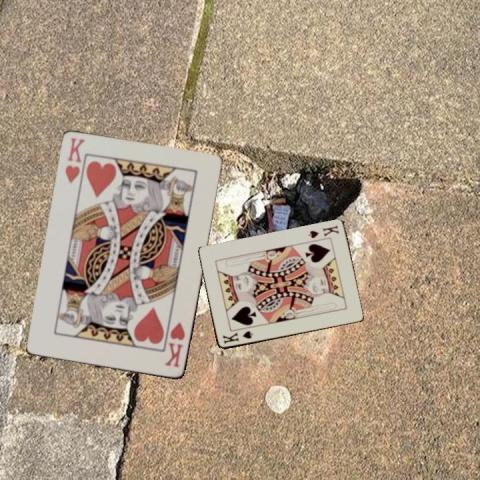Kh: (162, 319, 187, 369), (62, 135, 87, 185)
Ks: (219, 328, 254, 345), (305, 223, 340, 240)
